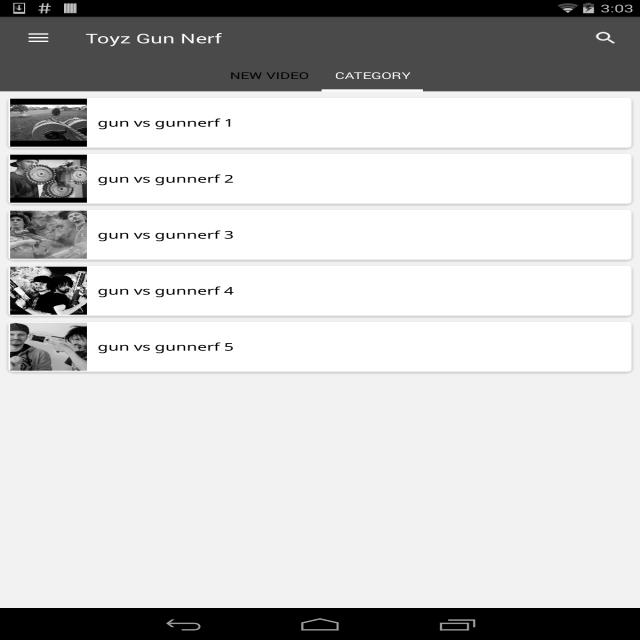ImageButton: (9, 17, 68, 59)
ImageView: (10, 98, 87, 146), (10, 154, 87, 202), (10, 210, 87, 258), (10, 266, 87, 314), (10, 322, 87, 370)
TextView: (97, 115, 630, 130), (97, 171, 630, 186), (97, 227, 630, 242), (97, 283, 630, 298), (97, 339, 630, 354), (86, 29, 222, 47), (580, 22, 632, 54), (230, 69, 309, 82), (335, 69, 410, 82)
